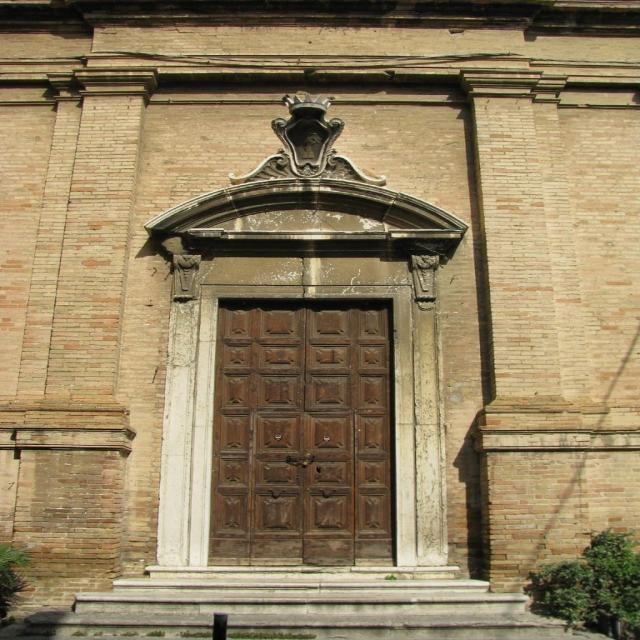door: (198, 286, 402, 570)
